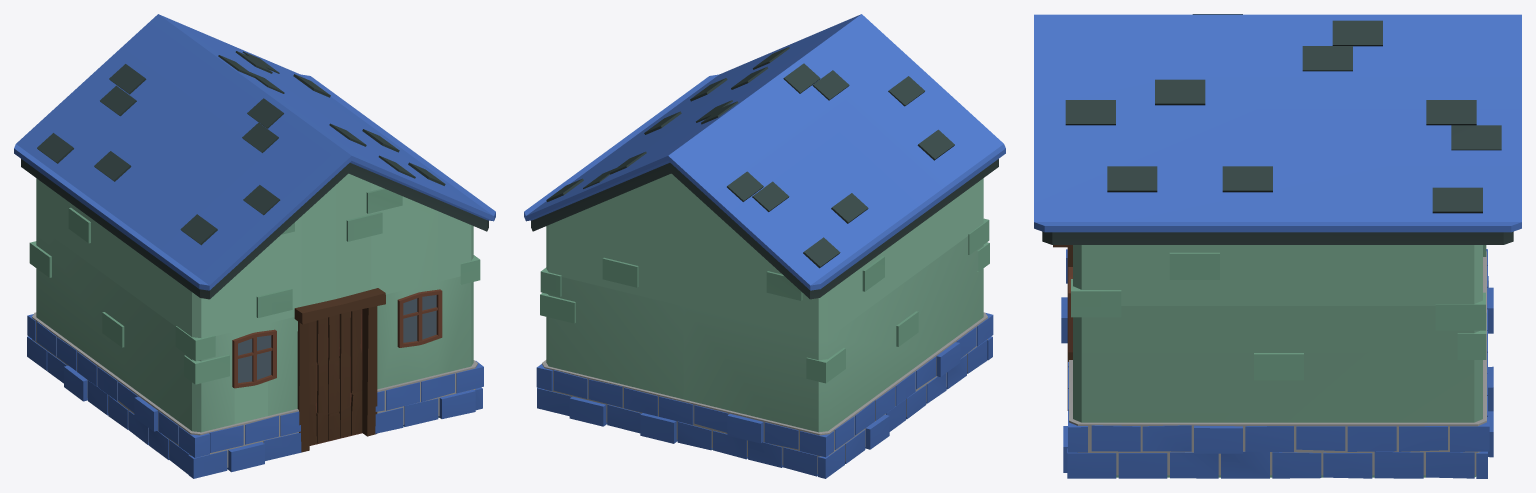
File: house-3.glb
3 renders of one model, left to right at view 1: azimuth 30°, elevation 25°; view 2: azimuth 150°, elevation 25°; view 3: azimuth 270°, elevation 25°, orthographic. The views are drawn at different scales.
Visible parts, largest first — view 1: house-3; view 2: house-3; view 3: house-3.
Part boxes in pixels (x1,y1,x2,y2): house-3: (14,14,495,478); house-3: (524,14,1005,478); house-3: (1034,14,1521,478).
Bounding box in the file's own units: 6.19 × 5.95 × 7.
